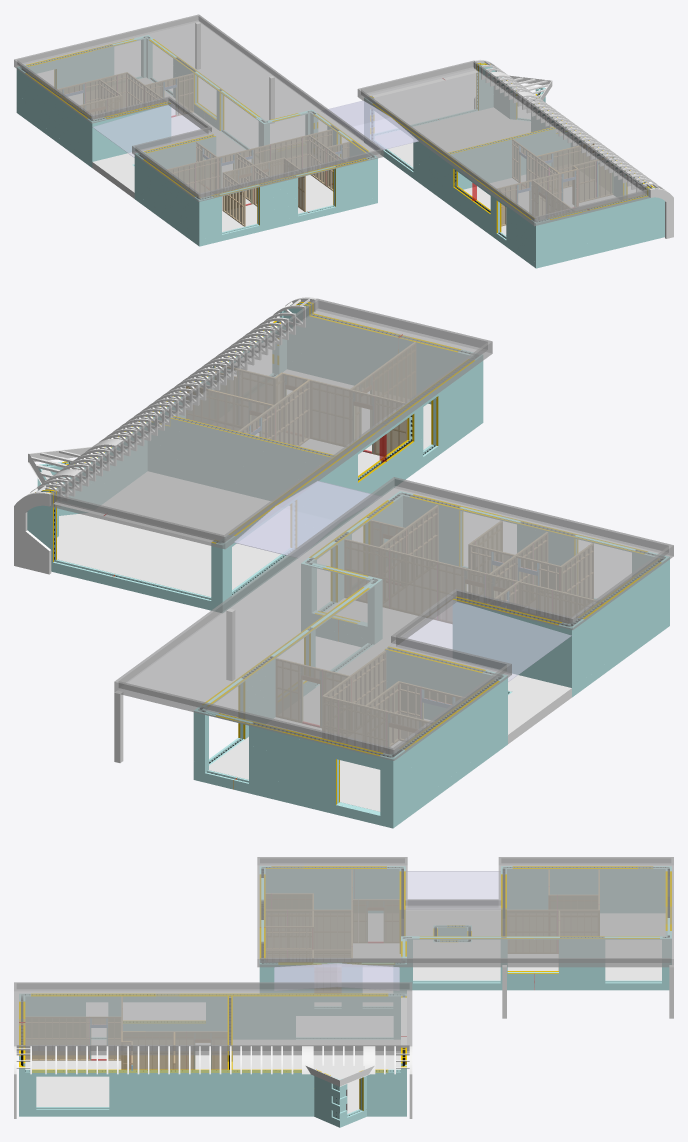
Rendered from Horrobin_Farm.glb.
3 renders of one model, top to bottom at view 1: azimuth 30°, elevation 25°; view 2: azimuth 150°, elevation 25°; view 3: azimuth 270°, elevation 25°, orthographic. The views are drawn at different scales.
Parts seen in each view (by area): view 1: Geom3D (×4), Geom3D_ (×3); view 2: Geom3D (×10), Geom3D_ (×3); view 3: Geom3D (×16), Geom3D_ (×2).
Boxes of the visible parts, <box> form: Geom3D (×4): <box>14,14,650,226</box>; Geom3D_ (×3): <box>68,77,673,238</box>; Geom3D (×10): <box>49,298,673,760</box>; Geom3D_ (×3): <box>14,369,571,811</box>; Geom3D (×16): <box>14,857,673,1069</box>; Geom3D_ (×2): <box>25,911,665,1113</box>.
Bounding box in the file's own units: 29.67 × 5.48 × 38.57.
